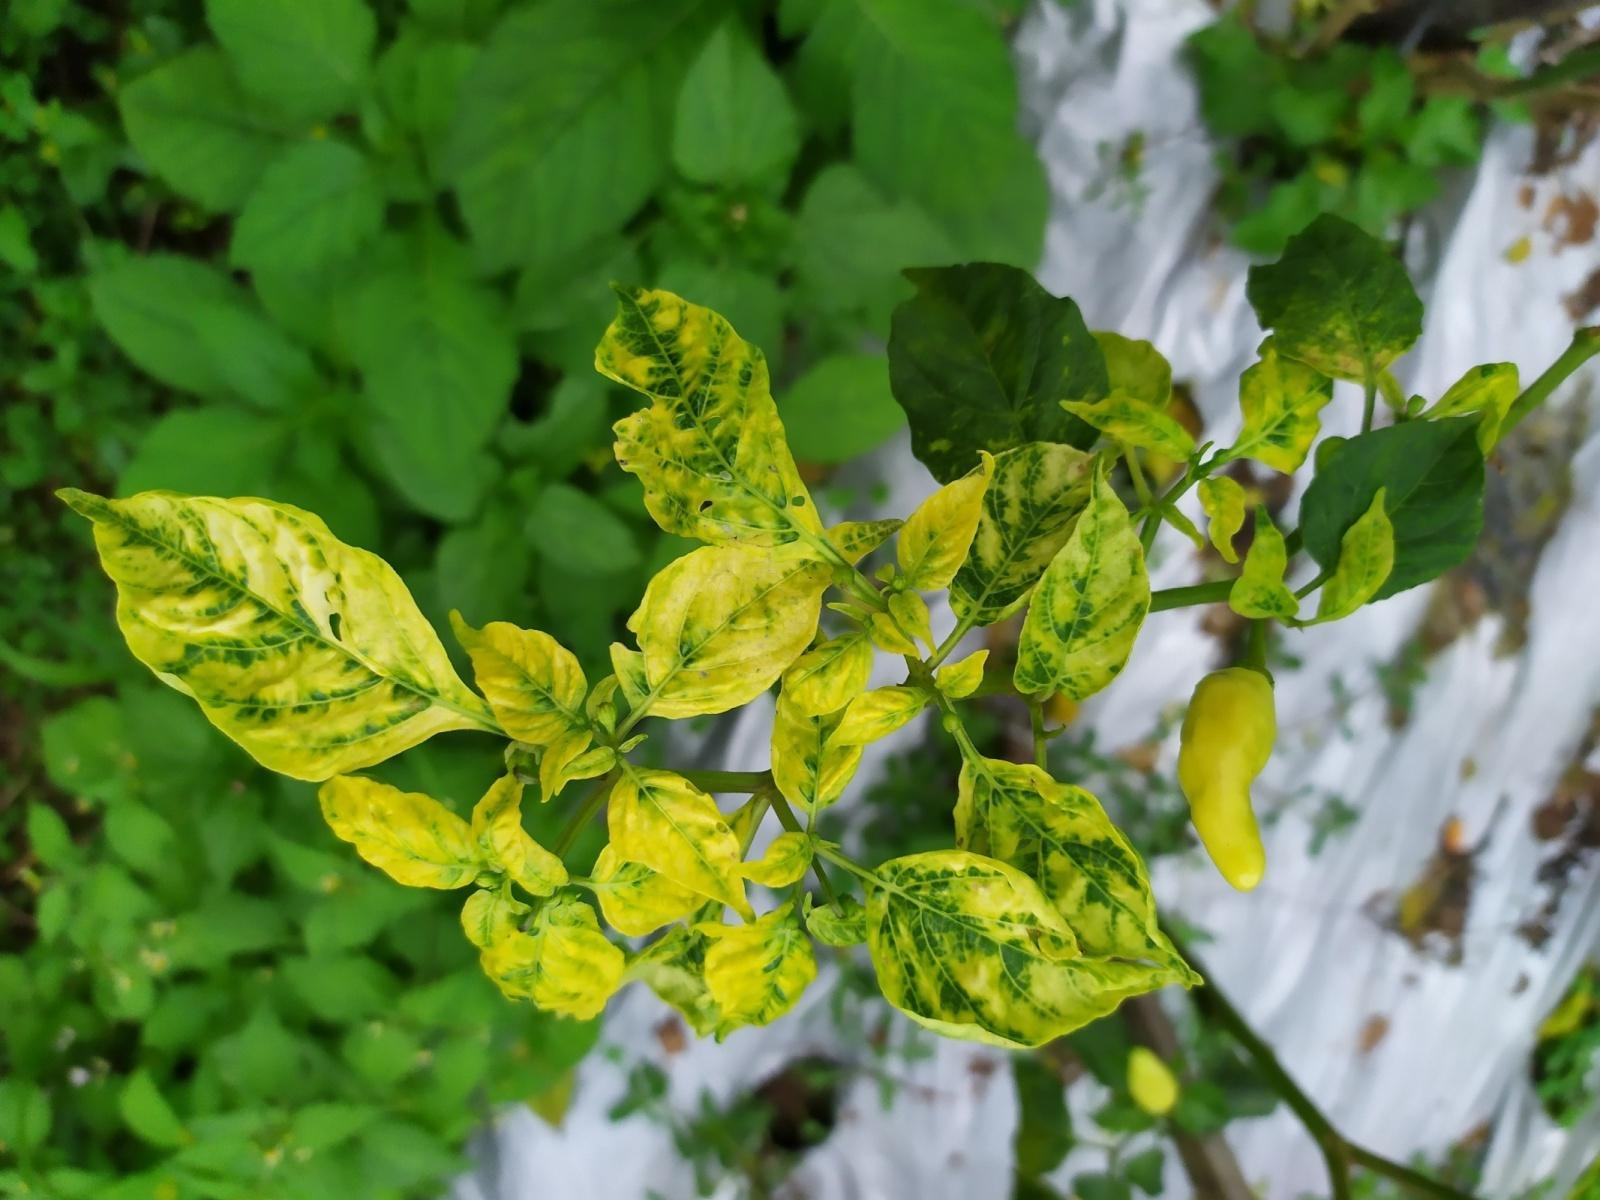cabai_normal: (1177, 664, 1277, 891)
